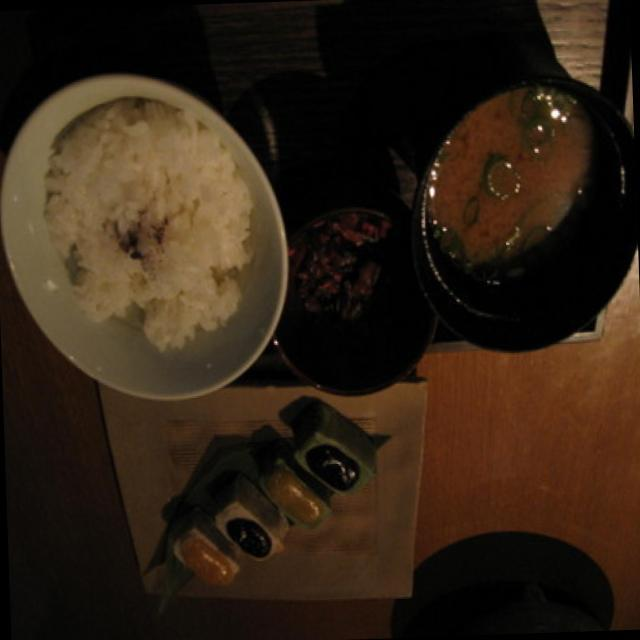Rice: (58, 121, 248, 342)
